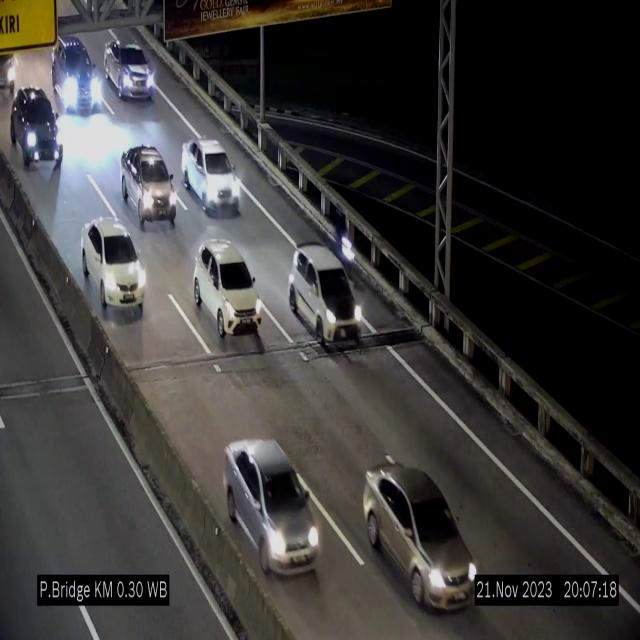Car: (363, 465, 475, 610), (223, 443, 321, 585), (288, 244, 362, 350), (194, 241, 262, 341), (83, 219, 147, 317), (11, 81, 65, 177), (122, 147, 176, 231), (182, 139, 242, 214), (54, 37, 102, 119), (104, 42, 156, 98)
Motorcycle: (333, 210, 355, 272)
